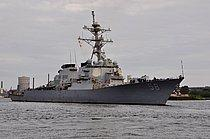MIL_Ship: (7, 23, 186, 107)
